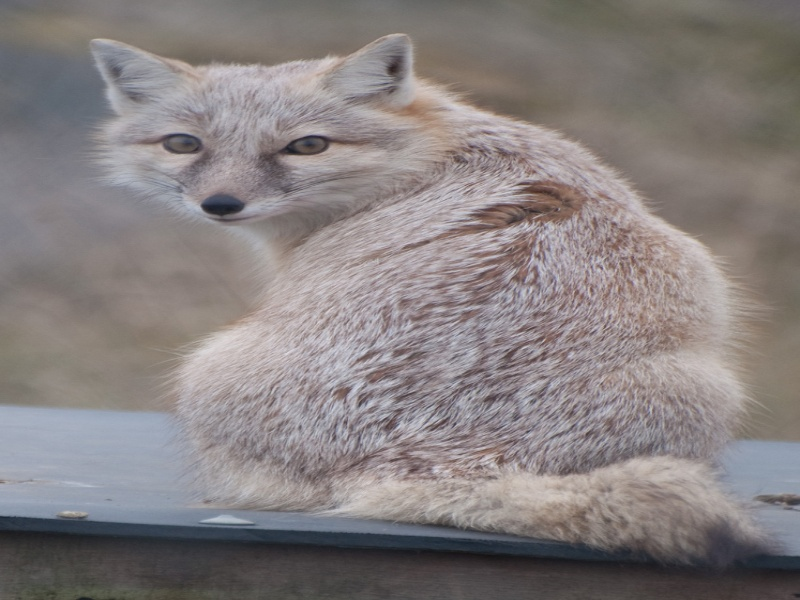fox: (73, 23, 779, 580)
